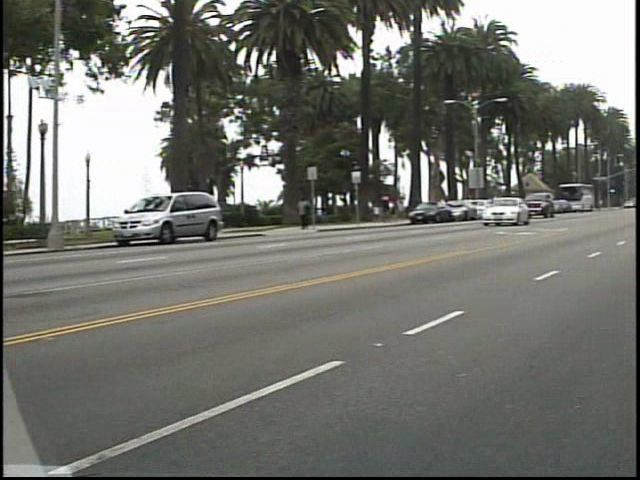person: (303, 195, 325, 234), (386, 189, 405, 224)
